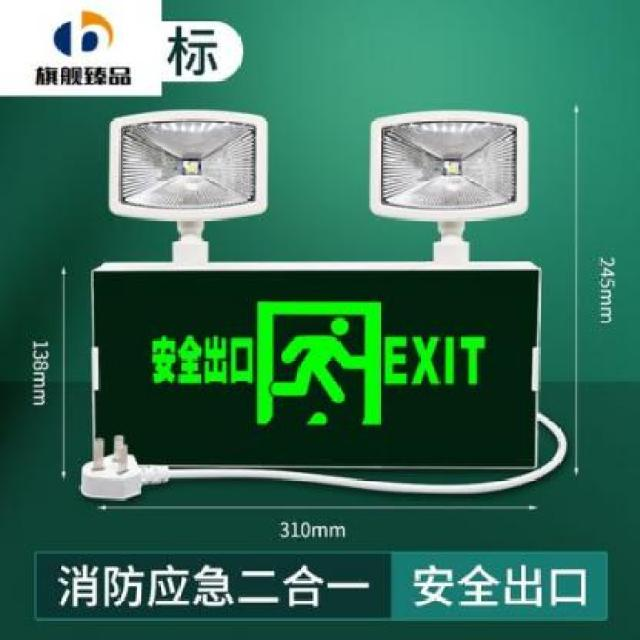exit_sign: (95, 272, 537, 472)
